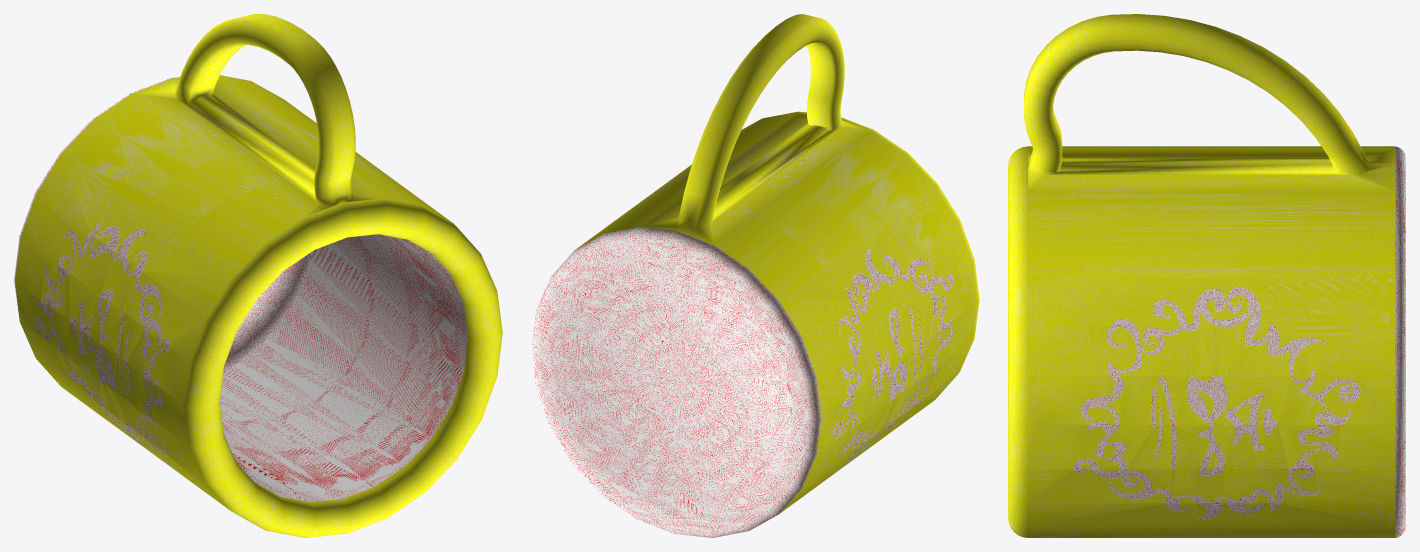
File: model_align.obj
3 renders of one model, left to right at view 1: azimuth 30°, elevation 25°; view 2: azimuth 150°, elevation 25°; view 3: azimuth 270°, elevation 25°, orthographic. The views are drawn at different scales.
Parts seen in each view (by area): view 1: mesh1_mesh1-geometry; view 2: mesh1_mesh1-geometry; view 3: mesh1_mesh1-geometry.
Part boxes in pixels (<box>): mesh1_mesh1-geometry: <box>14,14,502,537</box>; mesh1_mesh1-geometry: <box>531,14,979,537</box>; mesh1_mesh1-geometry: <box>1008,14,1405,537</box>.
Size of the model in its own units: 0.0892 by 0.1257 by 0.0903.
